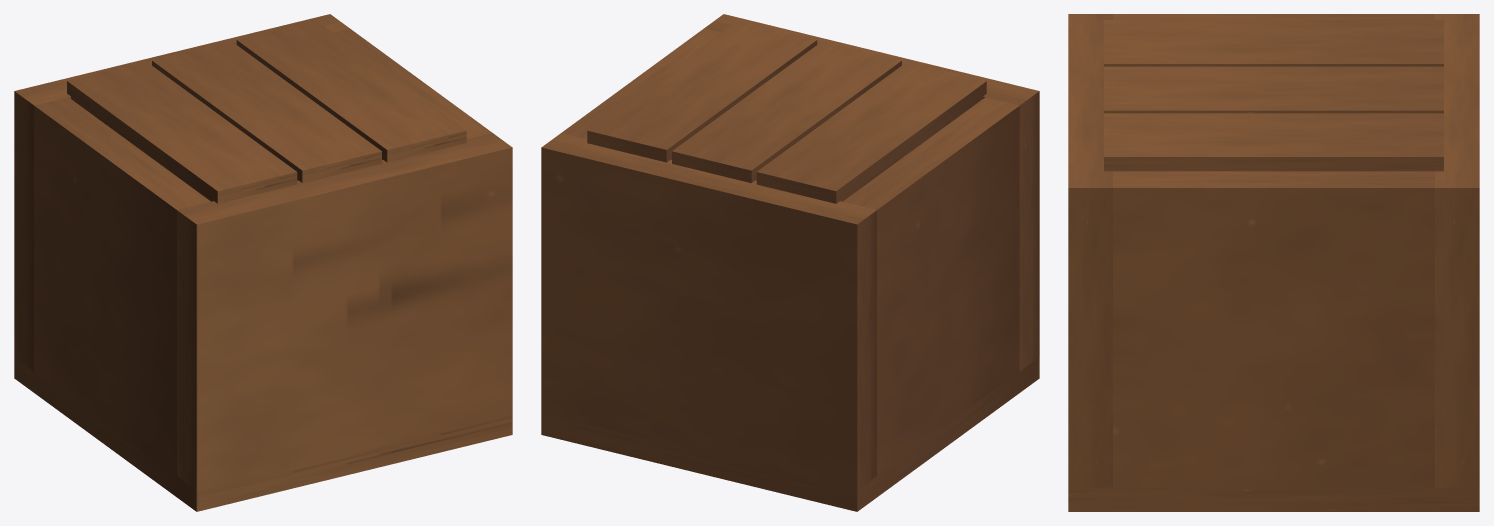
3 views of the same model, side by side, from view 1: azimuth 30°, elevation 25°; view 2: azimuth 150°, elevation 25°; view 3: azimuth 270°, elevation 25° (orthographic). The views are drawn at different scales.
Visible parts, largest first — view 1: terrain_crate; view 2: terrain_crate; view 3: terrain_crate.
Boxes of the visible parts, box(x1,y1,x2,y2) form: terrain_crate: box(14, 14, 512, 511); terrain_crate: box(541, 14, 1039, 511); terrain_crate: box(1068, 14, 1479, 511).
Size of the model in its own units: 0.92 by 0.835 by 0.92.
Materials: 1 (1 with a texture image).
